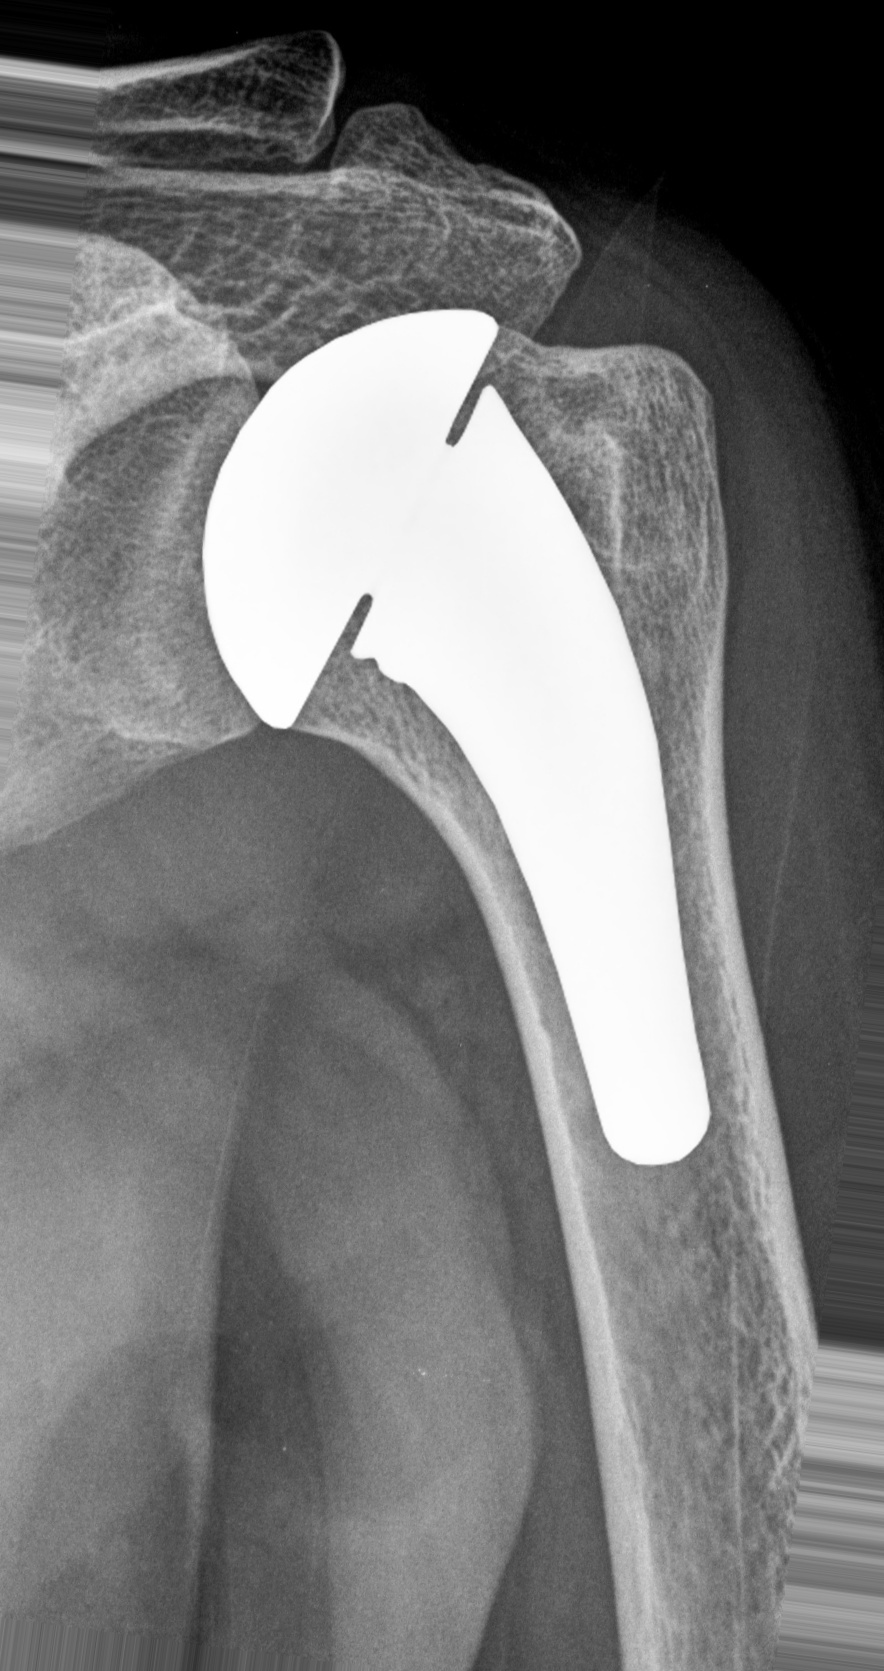Shoulder - AequalisAscendFlex - Tornier: (190, 254, 503, 747)
